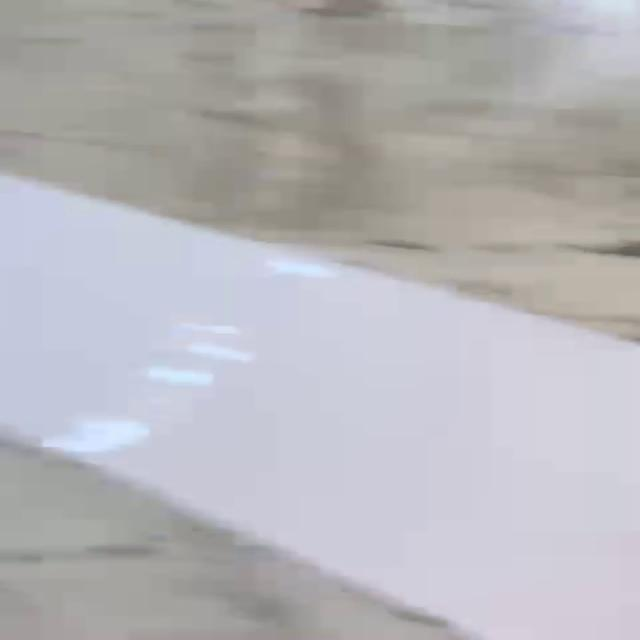road: (0, 175, 640, 640)
